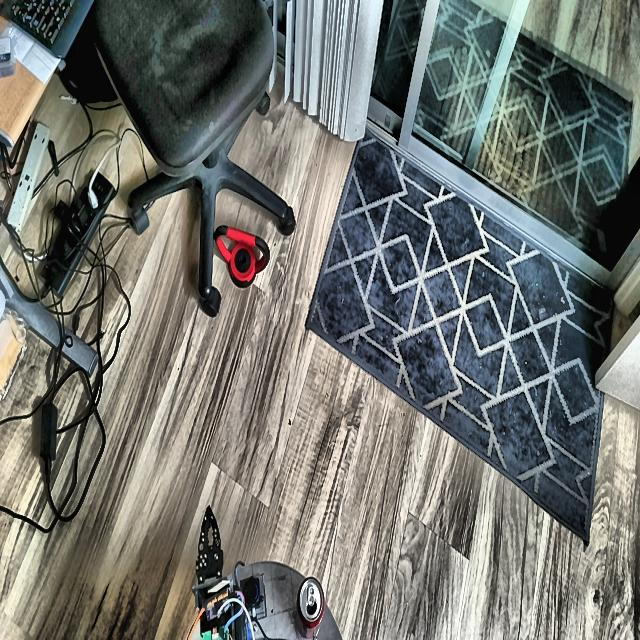Can: (297, 578, 324, 638)
